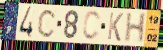4: (18, 5, 35, 40)
8: (63, 9, 80, 40)
C: (36, 8, 58, 39), (81, 10, 102, 42)
H: (123, 12, 148, 44)
K: (106, 11, 124, 43)
